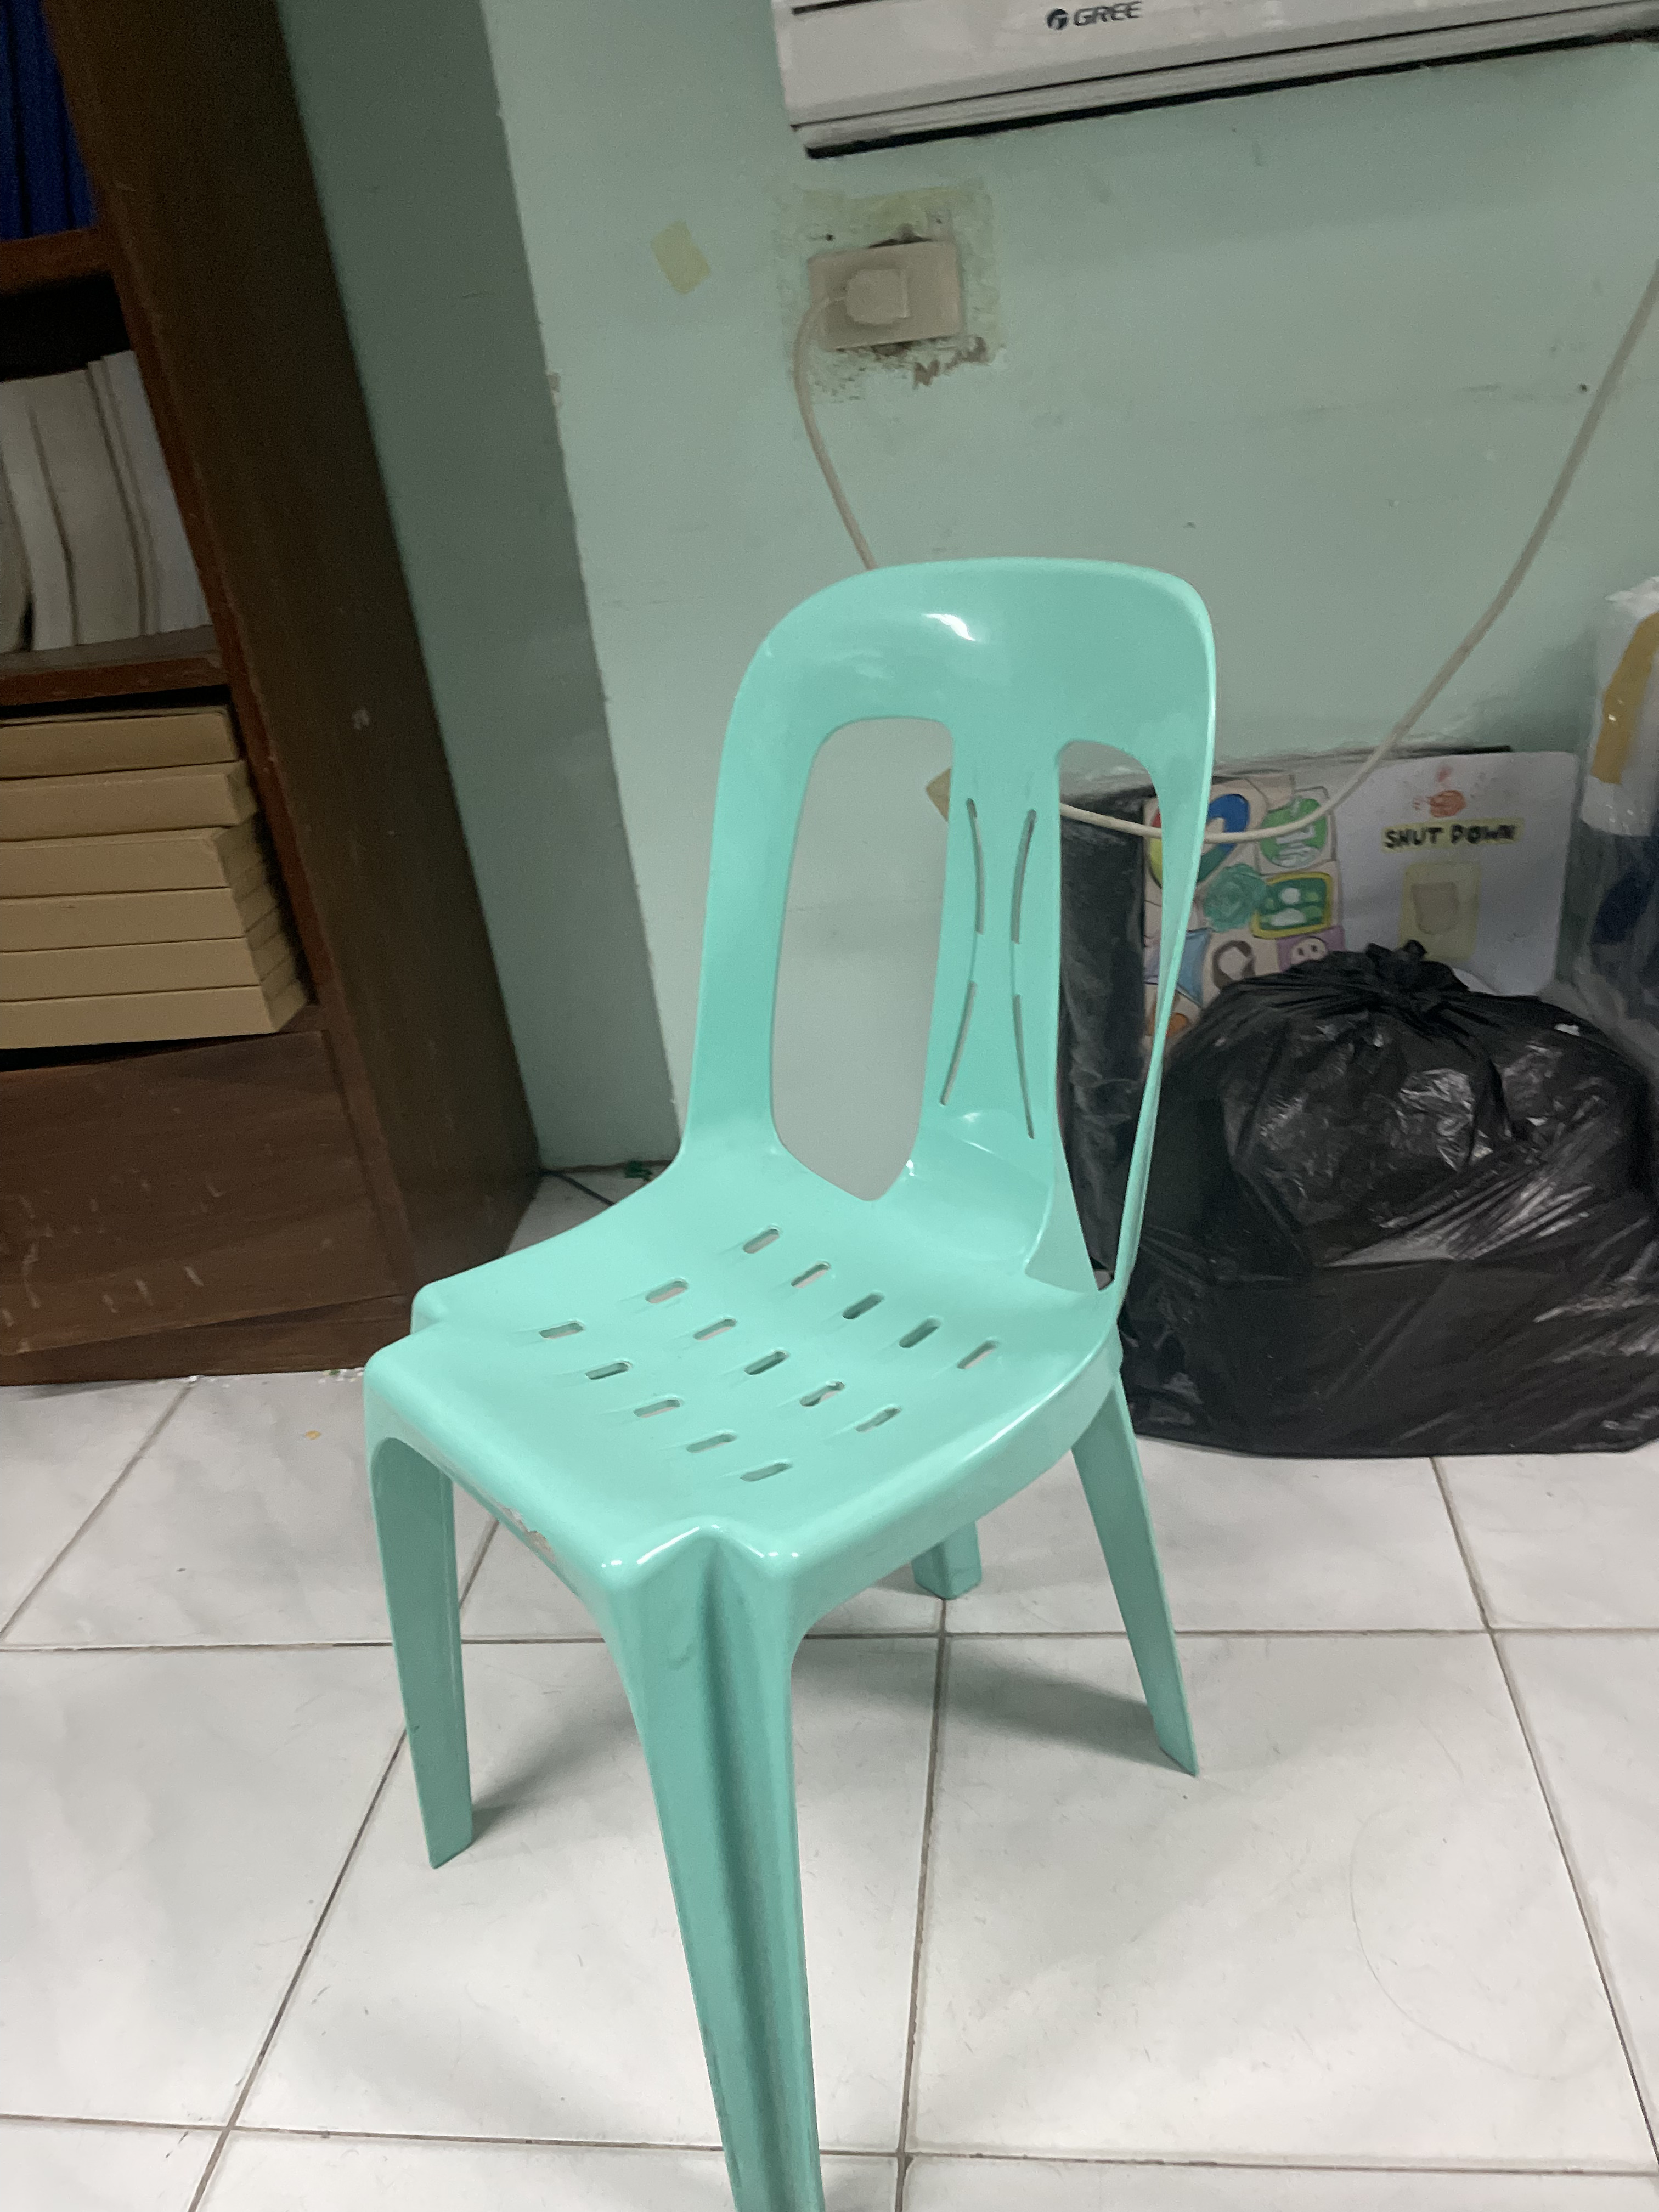chair2: (352, 545, 1232, 2212)
